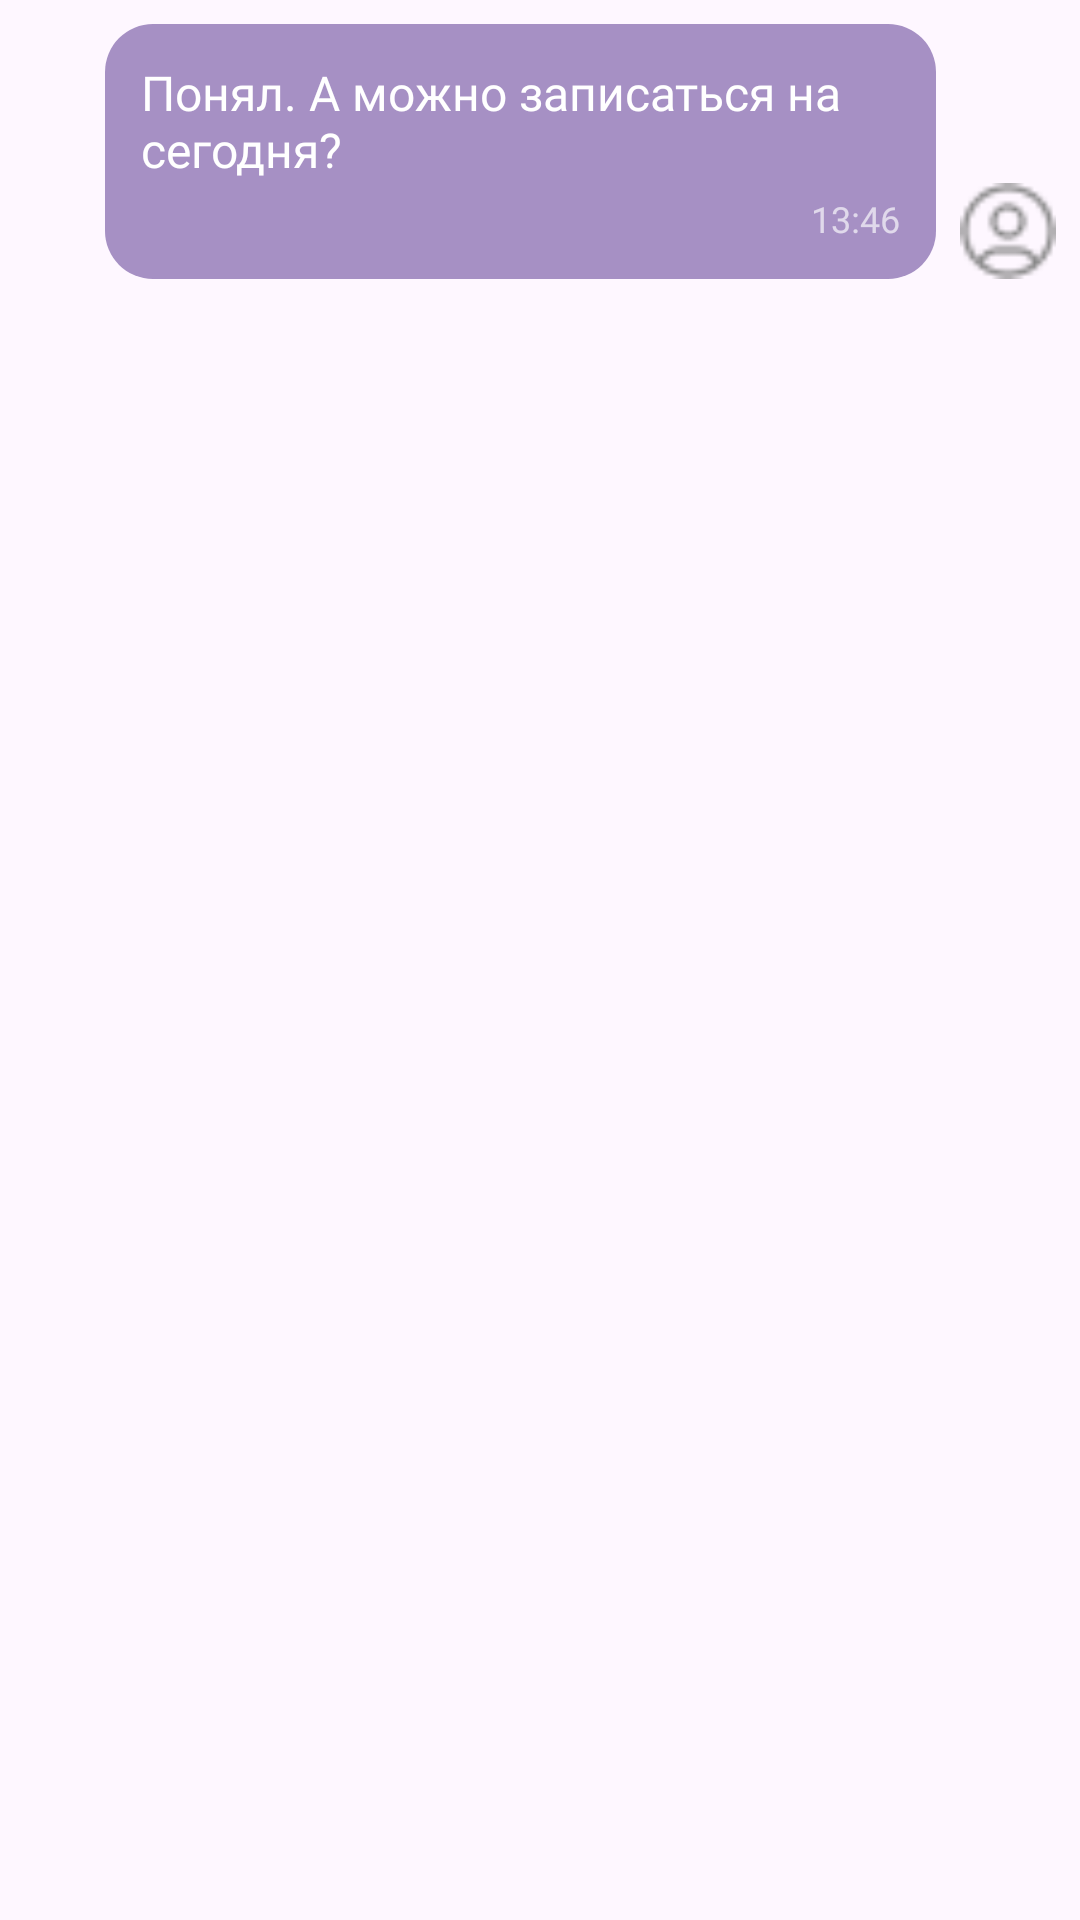

Named icons in this screenshot (1080 × 1920) and their bounding boxes, (x1, y1, x2, y2):
profile: (960, 183, 1056, 279)
